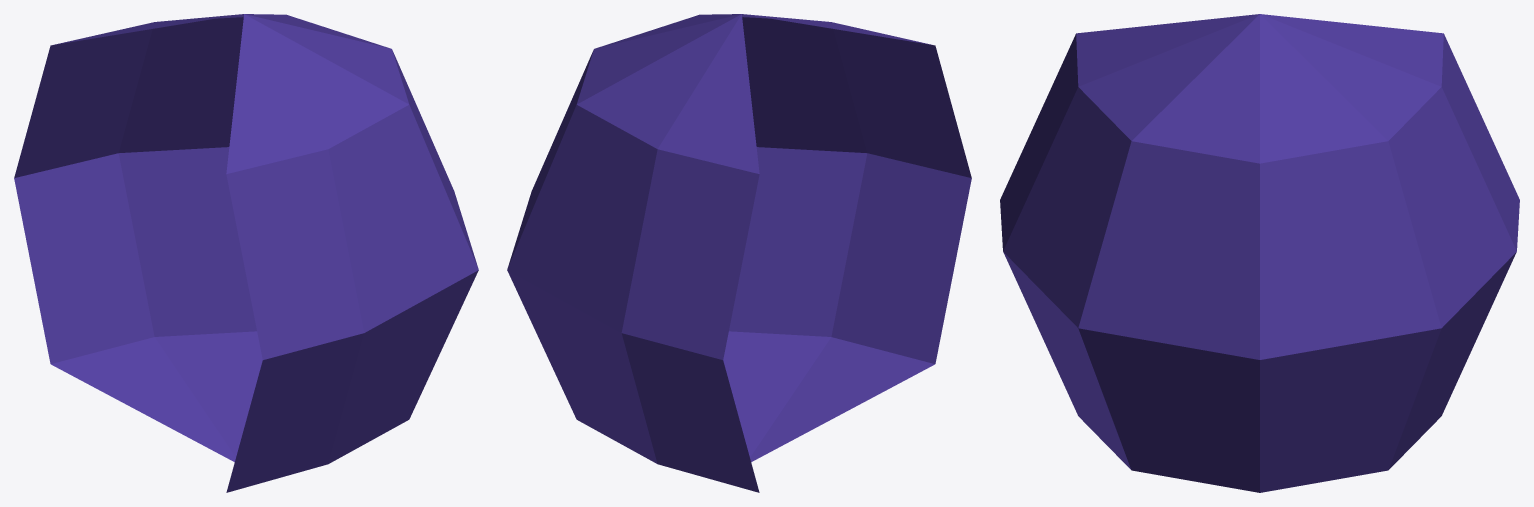
File: Elevator.glb
3 renders of one model, left to right at view 1: azimuth 30°, elevation 25°; view 2: azimuth 150°, elevation 25°; view 3: azimuth 270°, elevation 25°, orthographic. The views are drawn at different scales.
Visible parts, largest first — view 1: ElevatorModel; view 2: ElevatorModel; view 3: ElevatorModel.
Part boxes in pixels (x1=…): ElevatorModel: x1=14, y1=14, x2=478, y2=492; ElevatorModel: x1=507, y1=14, x2=971, y2=492; ElevatorModel: x1=1000, y1=14, x2=1519, y2=492.
Size of the model in its own units: 1.48 by 2.03 by 2.02.
